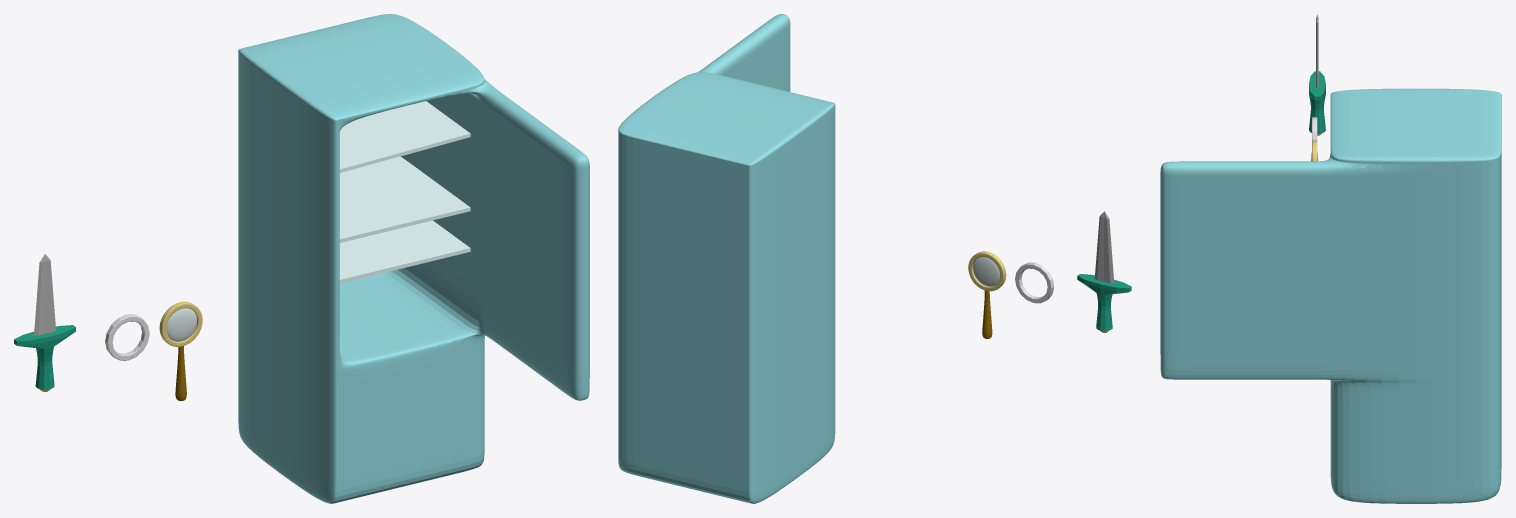
The model's file is crime_scene.gltf.
3 views of the same model, side by side, from view 1: azimuth 30°, elevation 25°; view 2: azimuth 150°, elevation 25°; view 3: azimuth 270°, elevation 25° (orthographic). The views are drawn at different scales.
Visible parts, largest first — view 1: Fridge, Dragger, Search, Cylinder.001; view 2: Fridge, Dragger, Search, Cylinder.001; view 3: Fridge, Dragger.
Boxes of the visible parts, x1,y1,x2,y2 form: Fridge: (238, 14, 589, 503); Dragger: (14, 254, 75, 391); Search: (159, 301, 202, 401); Cylinder.001: (105, 314, 149, 360); Fridge: (618, 14, 835, 503); Dragger: (1077, 211, 1131, 332); Search: (968, 251, 1006, 338); Cylinder.001: (1015, 262, 1054, 303); Fridge: (1160, 88, 1501, 503); Dragger: (1309, 14, 1325, 135).
Size of the model in its own units: 5.82 by 4.48 by 3.99.
